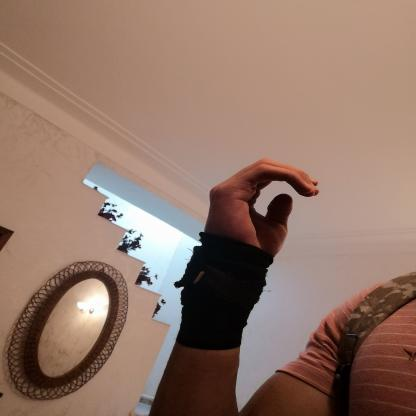JEEM: (187, 151, 335, 267)
